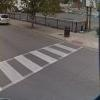Crosswalk: (2, 35, 78, 87)
